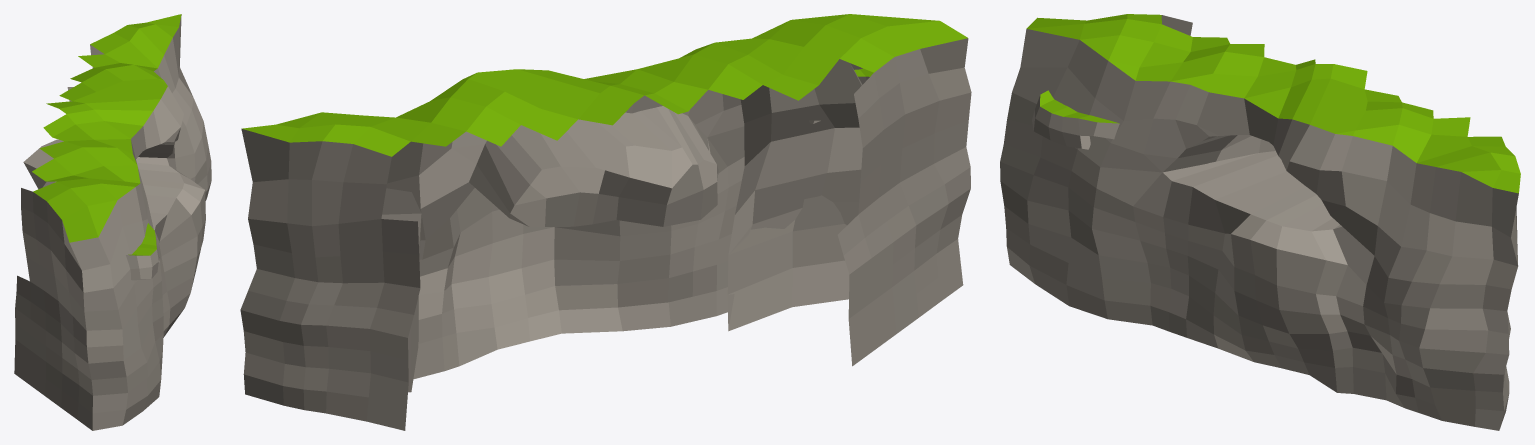
File: Cliff 007.fbx
3 renders of one model, left to right at view 1: azimuth 30°, elevation 25°; view 2: azimuth 150°, elevation 25°; view 3: azimuth 270°, elevation 25°, orthographic. The views are drawn at different scales.
Parts seen in each view (by area): view 1: Cliff 007; view 2: Cliff 007; view 3: Cliff 007.
Part boxes in pixels (x1,y1,x2,y2): Cliff 007: [14, 14, 211, 430]; Cliff 007: [240, 14, 971, 430]; Cliff 007: [1000, 14, 1520, 430].
Bounding box in the file's own units: 831 × 540 × 980.
